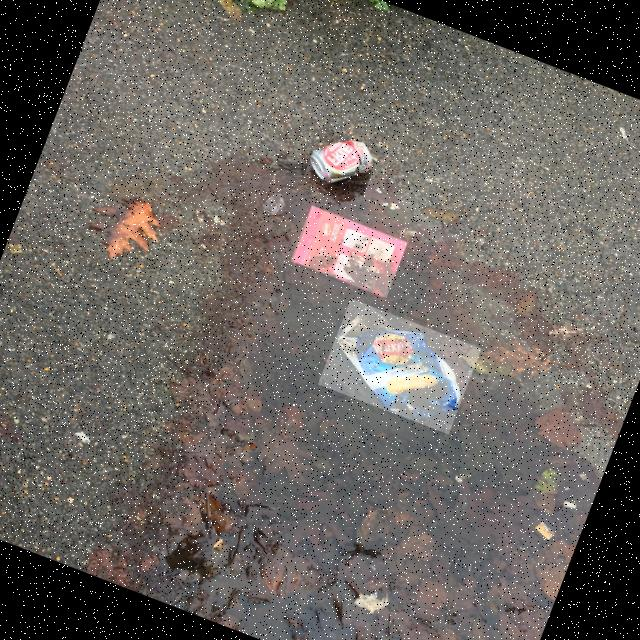Crisp packet: (337, 308, 461, 422), (292, 206, 407, 297)
Drink can: (312, 141, 375, 184)
